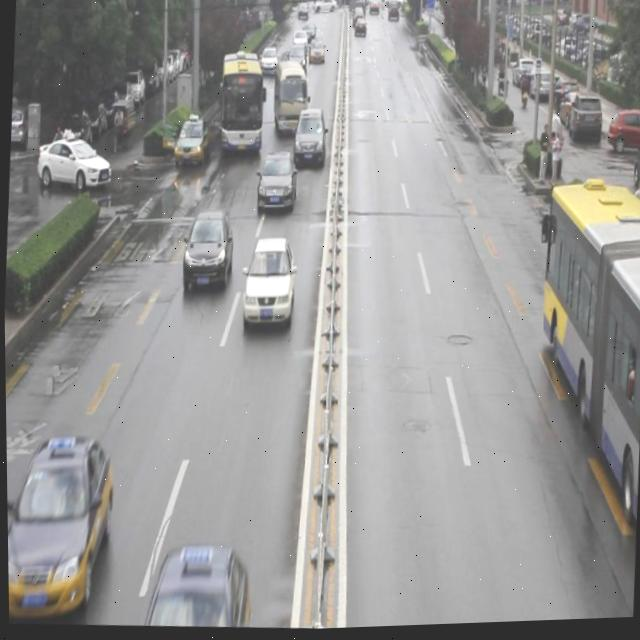car: (5, 434, 108, 620), (140, 547, 247, 632), (239, 238, 296, 336), (180, 209, 231, 295), (255, 152, 295, 210), (172, 125, 210, 181), (290, 109, 326, 167)
truck: (272, 64, 309, 140)
van: (522, 185, 640, 551), (218, 54, 266, 157)
